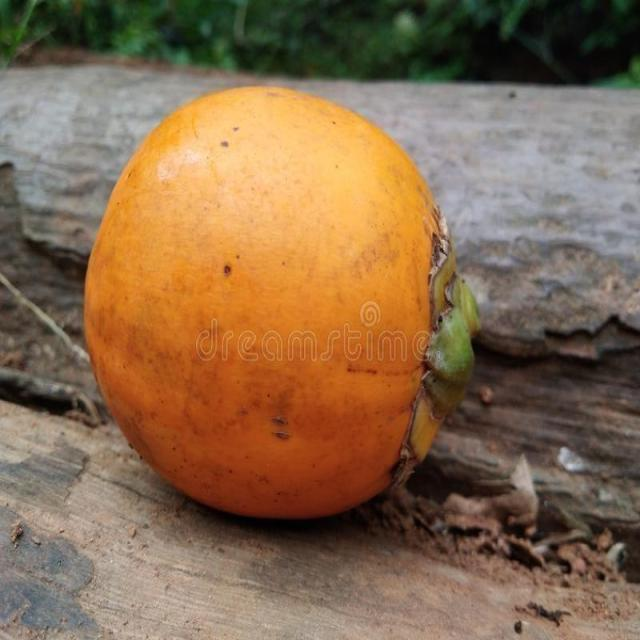good: (82, 86, 479, 523)
